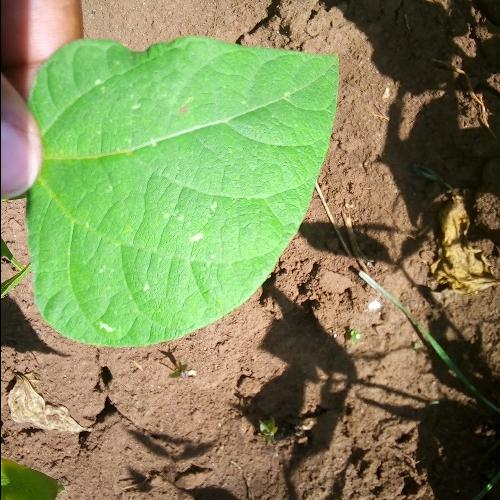sehat: (50, 66, 267, 336)
